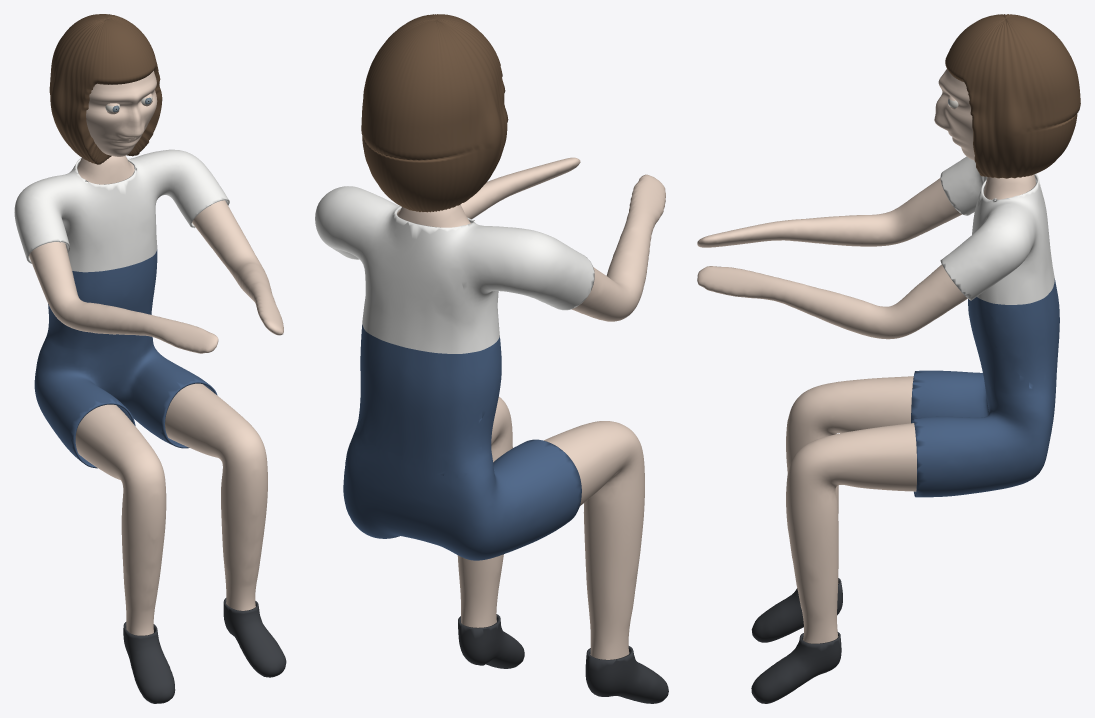
File: Figure_Daughter_Seated.fbx
3 views of the same model, side by side, from view 1: azimuth 30°, elevation 25°; view 2: azimuth 150°, elevation 25°; view 3: azimuth 270°, elevation 25° (orthographic). The views are drawn at different scales.
Visible parts, largest first — view 1: Clothes, Body, Hair, Head; view 2: Clothes, Body, Hair; view 3: Clothes, Body, Hair, Head.
Boxes of the visible parts, bbox=[...] form: Clothes: bbox=[14, 149, 286, 703]; Body: bbox=[29, 155, 283, 635]; Hair: bbox=[49, 14, 162, 164]; Head: bbox=[86, 71, 157, 156]; Clothes: bbox=[315, 186, 668, 703]; Body: bbox=[397, 157, 665, 659]; Hair: bbox=[361, 14, 508, 212]; Clothes: bbox=[751, 156, 1059, 703]; Body: bbox=[697, 174, 1035, 643]; Hair: bbox=[945, 14, 1080, 178]; Head: bbox=[934, 69, 974, 160].
Size of the model in its own units: 0.3721 by 1.04 by 0.5531.
